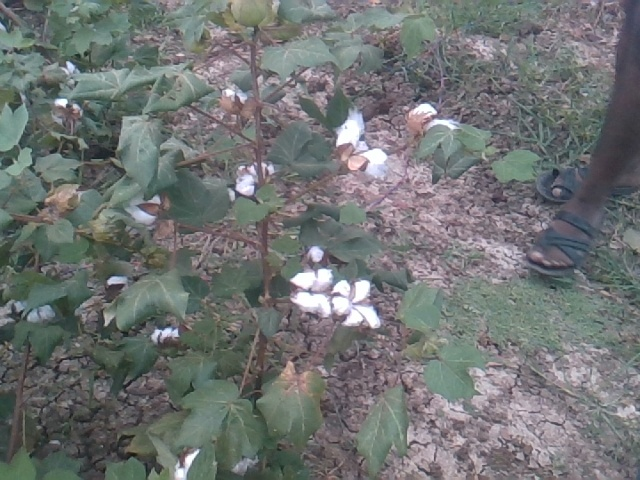cotton: (337, 118, 387, 177), (334, 278, 383, 331), (290, 267, 333, 318), (411, 101, 460, 138), (127, 193, 163, 231), (172, 445, 201, 480), (52, 96, 83, 127), (220, 85, 250, 117), (2, 298, 22, 332), (152, 325, 180, 347), (227, 176, 257, 195), (59, 60, 82, 81), (26, 305, 53, 322), (105, 275, 133, 290), (306, 245, 326, 262)
